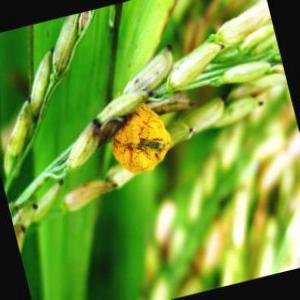Leaf_Scald: (122, 108, 166, 173)
